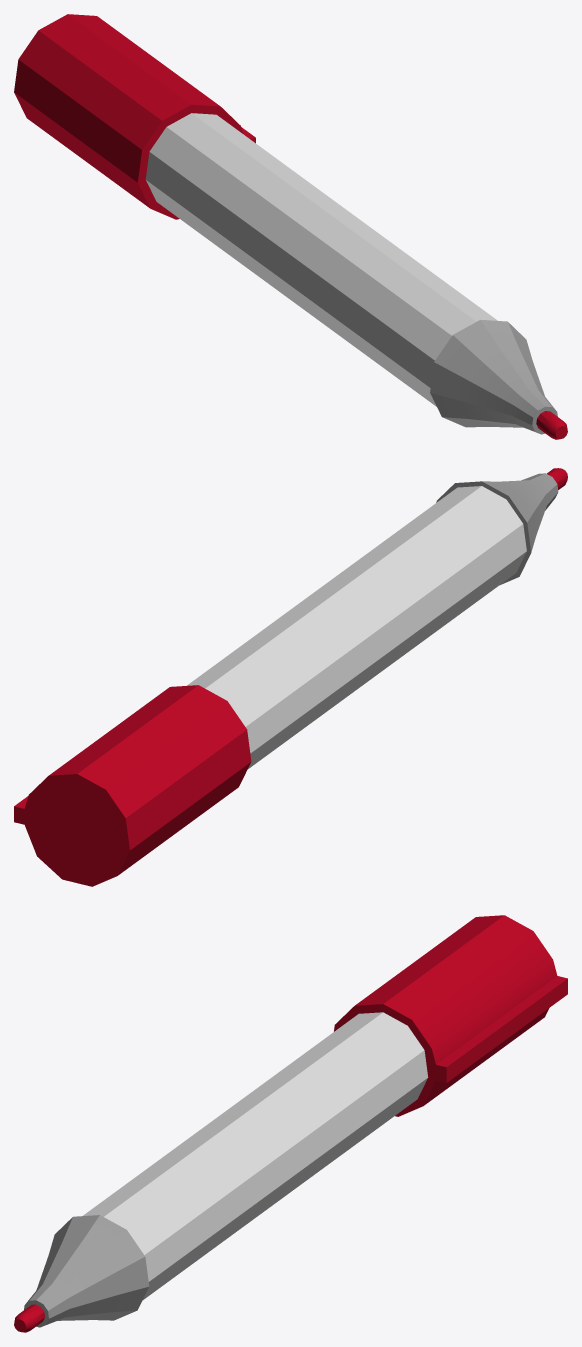
File: Marker.fbx
The picture shows the model from 3 angles, top to bottom: view 1: azimuth 30°, elevation 25°; view 2: azimuth 150°, elevation 25°; view 3: azimuth 330°, elevation 25°; orthographic projection.
Parts seen in each view (by area): view 1: Cylinder; view 2: Cylinder; view 3: Cylinder.
Part boxes in pixels (bbox=[...]): Cylinder: bbox=[14, 14, 567, 439]; Cylinder: bbox=[14, 468, 567, 886]; Cylinder: bbox=[14, 915, 567, 1332].
Size of the model in its own units: 2.72 by 2.44 by 19.64.
